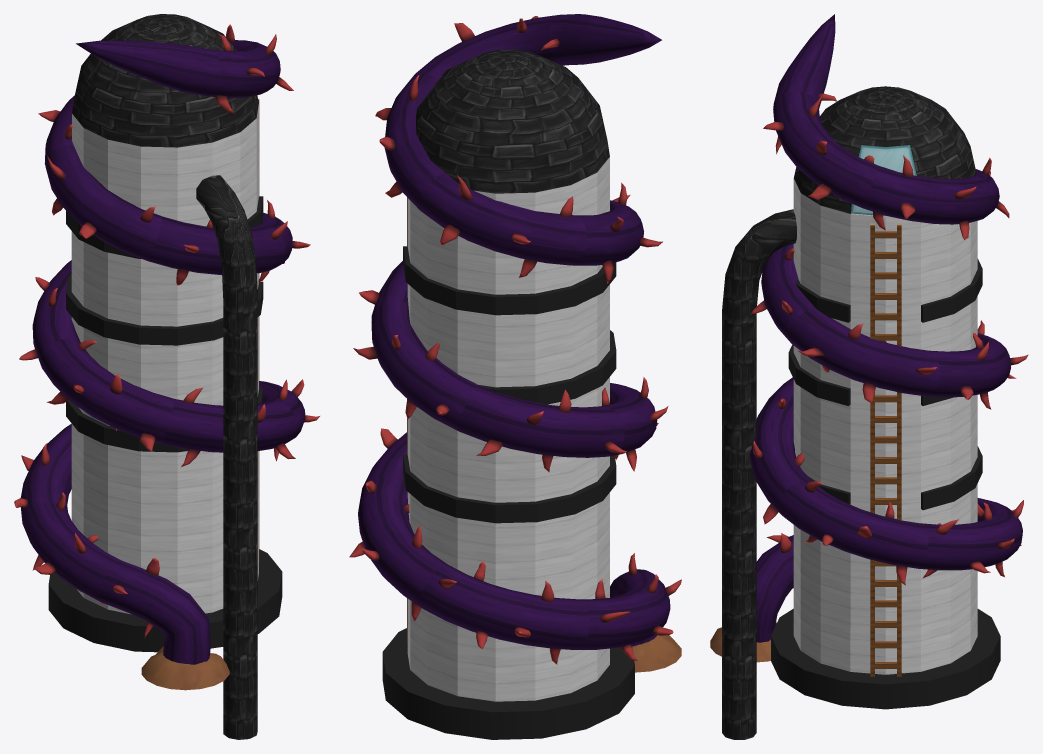
File: Silo_Taint.FBX
3 views of the same model, side by side, from view 1: azimuth 30°, elevation 25°; view 2: azimuth 150°, elevation 25°; view 3: azimuth 270°, elevation 25° (orthographic). The views are drawn at different scales.
Parts seen in each view (by area): view 1: Silo, Taint_Vine, Dirt_Mound; view 2: Silo, Taint_Vine, Dirt_Mound; view 3: Silo, Taint_Vine, Ladder, Dirt_Mound.
Part boxes in pixels (x1,y1,x2,y2): Silo: [48, 14, 282, 739]; Taint_Vine: [14, 24, 319, 664]; Dirt_Mound: [141, 646, 229, 690]; Silo: [382, 49, 634, 739]; Taint_Vine: [349, 14, 681, 664]; Dirt_Mound: [632, 635, 681, 672]; Silo: [722, 86, 1000, 739]; Taint_Vine: [750, 14, 1028, 642]; Ladder: [870, 223, 901, 676]; Dirt_Mound: [710, 623, 776, 662].
Bounding box in the file's own units: 132 × 319 × 139.
10 materials, 8 textured.
